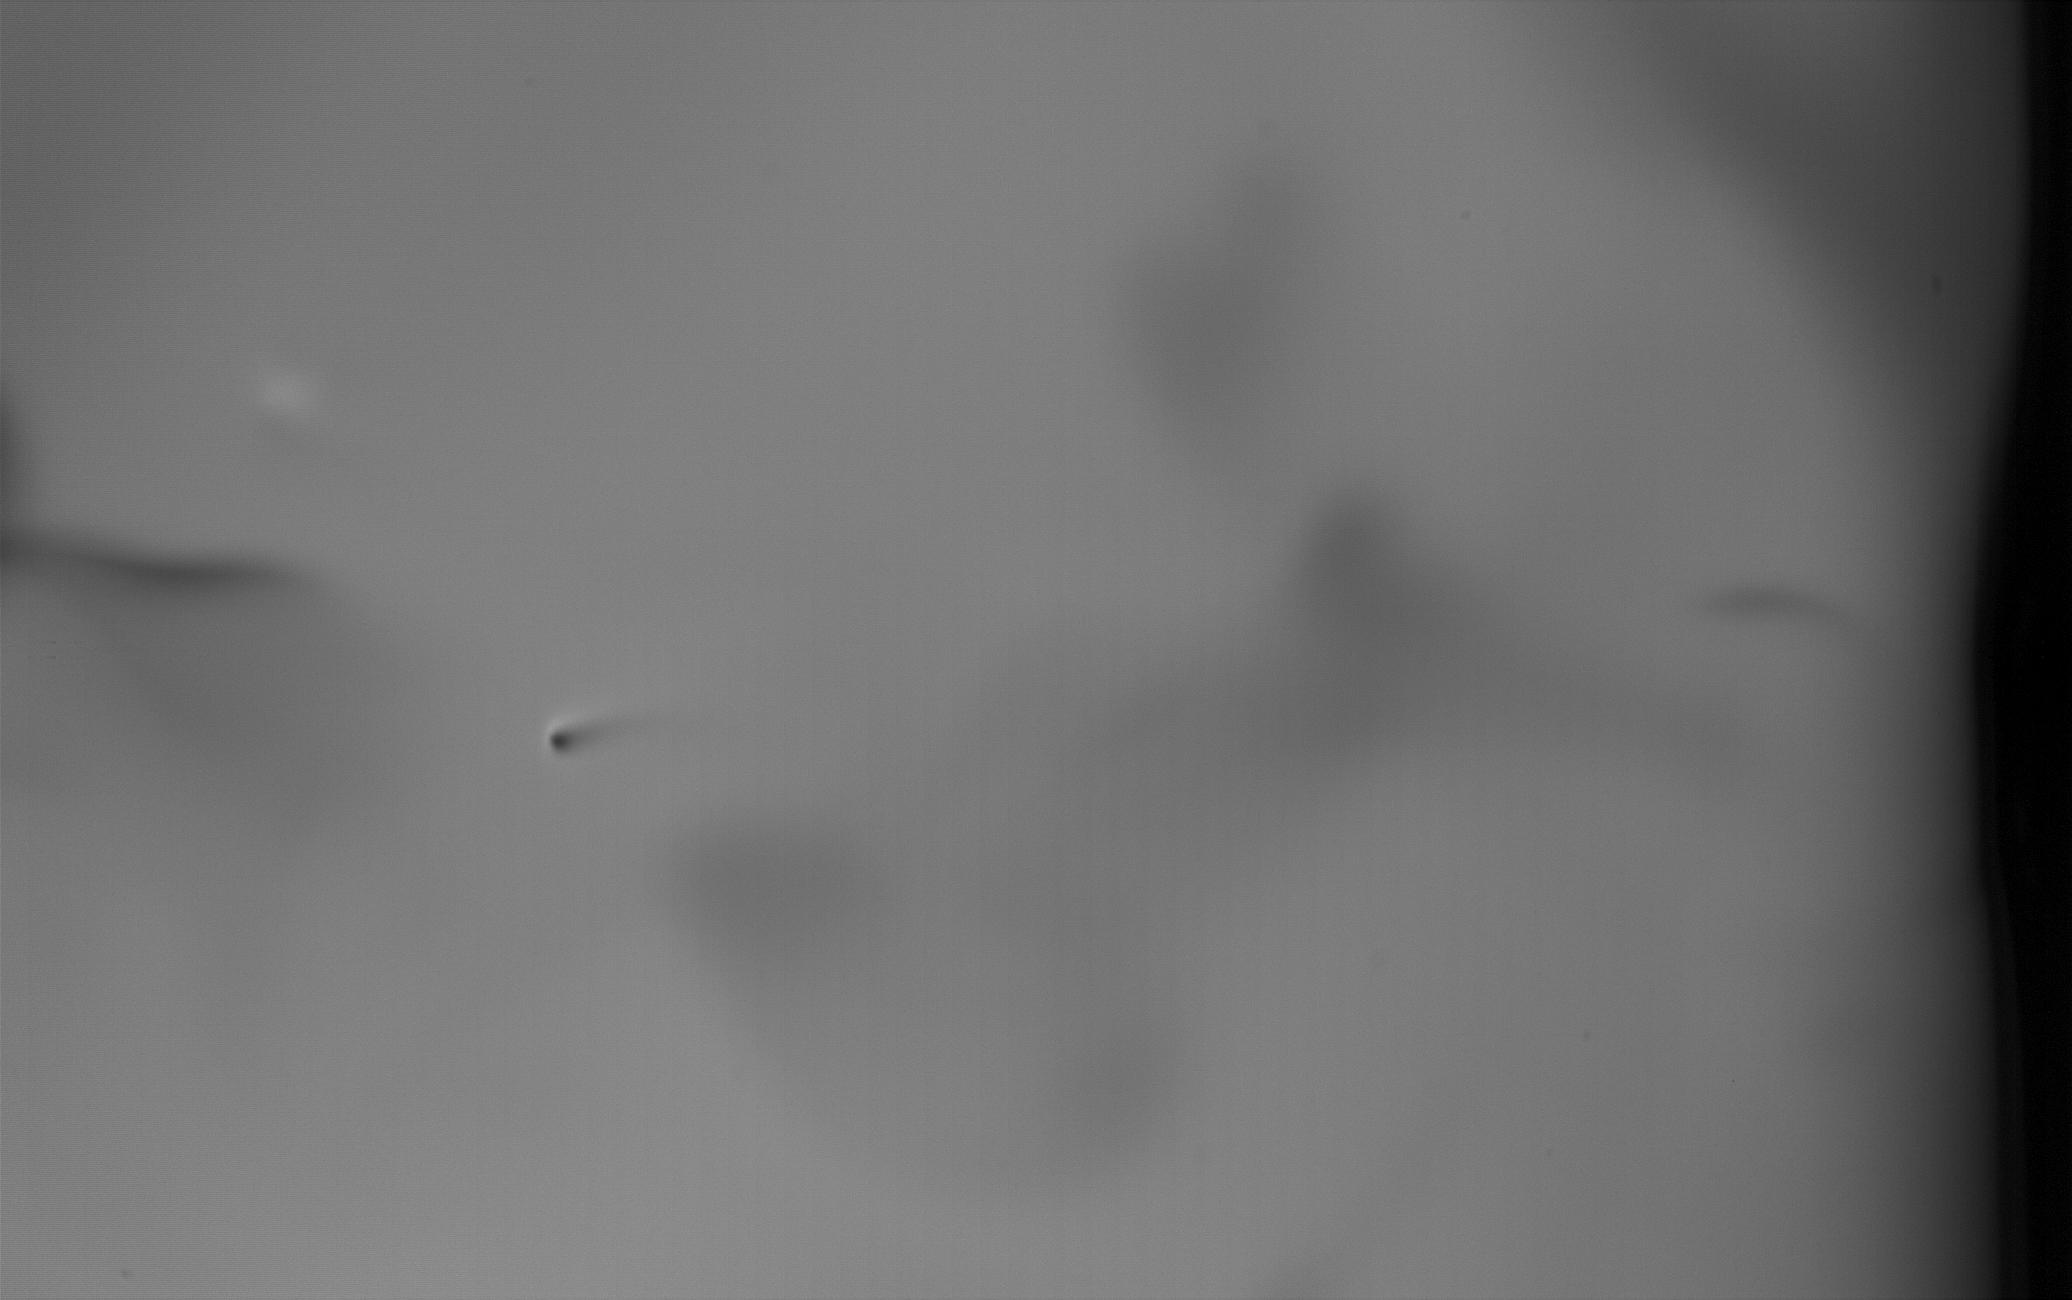ClassicalEvaporation: (545, 720, 579, 756)
